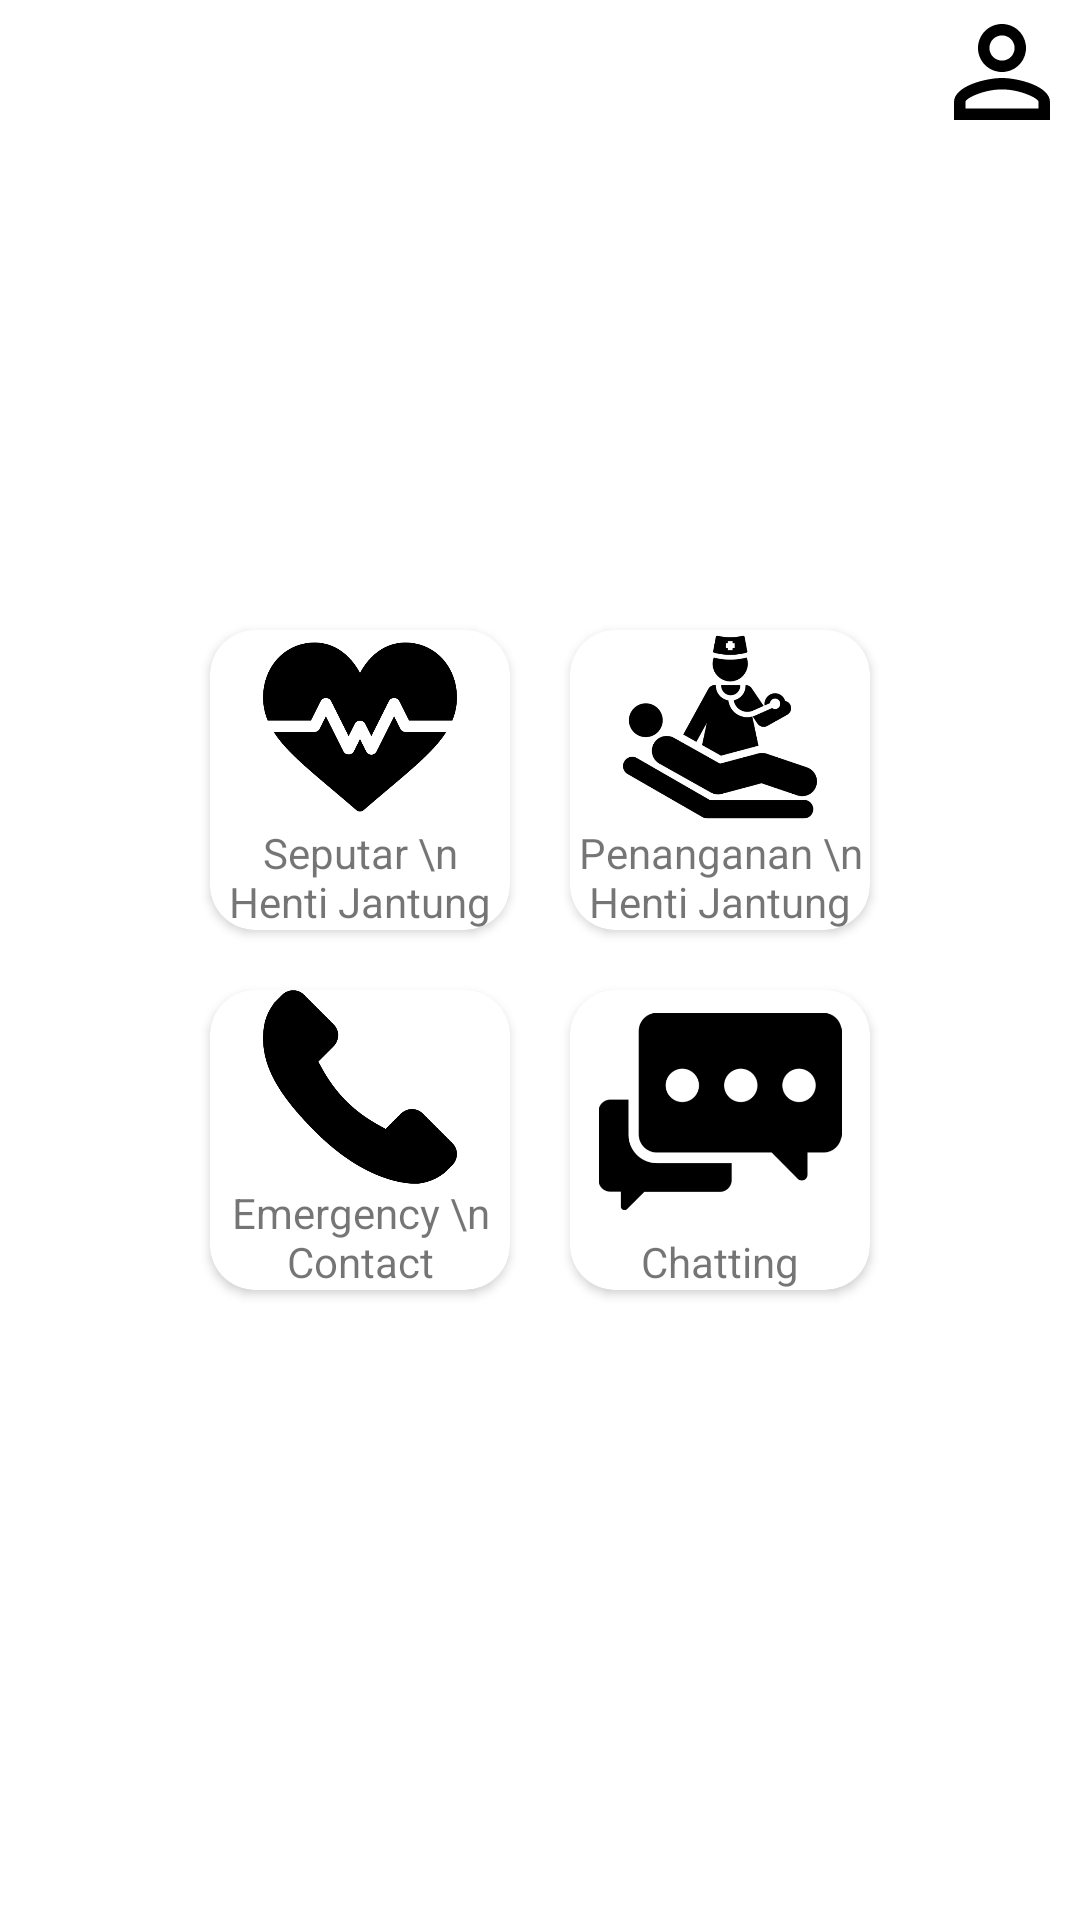

Locate icon controls on the screen. Image size 1080w x 1920h, boxes as (x1, y1, x2, y2).
call: (263, 990, 457, 1184)
doctor: (623, 635, 817, 819)
heartbeat: (263, 642, 457, 812)
person: (954, 24, 1050, 120)
